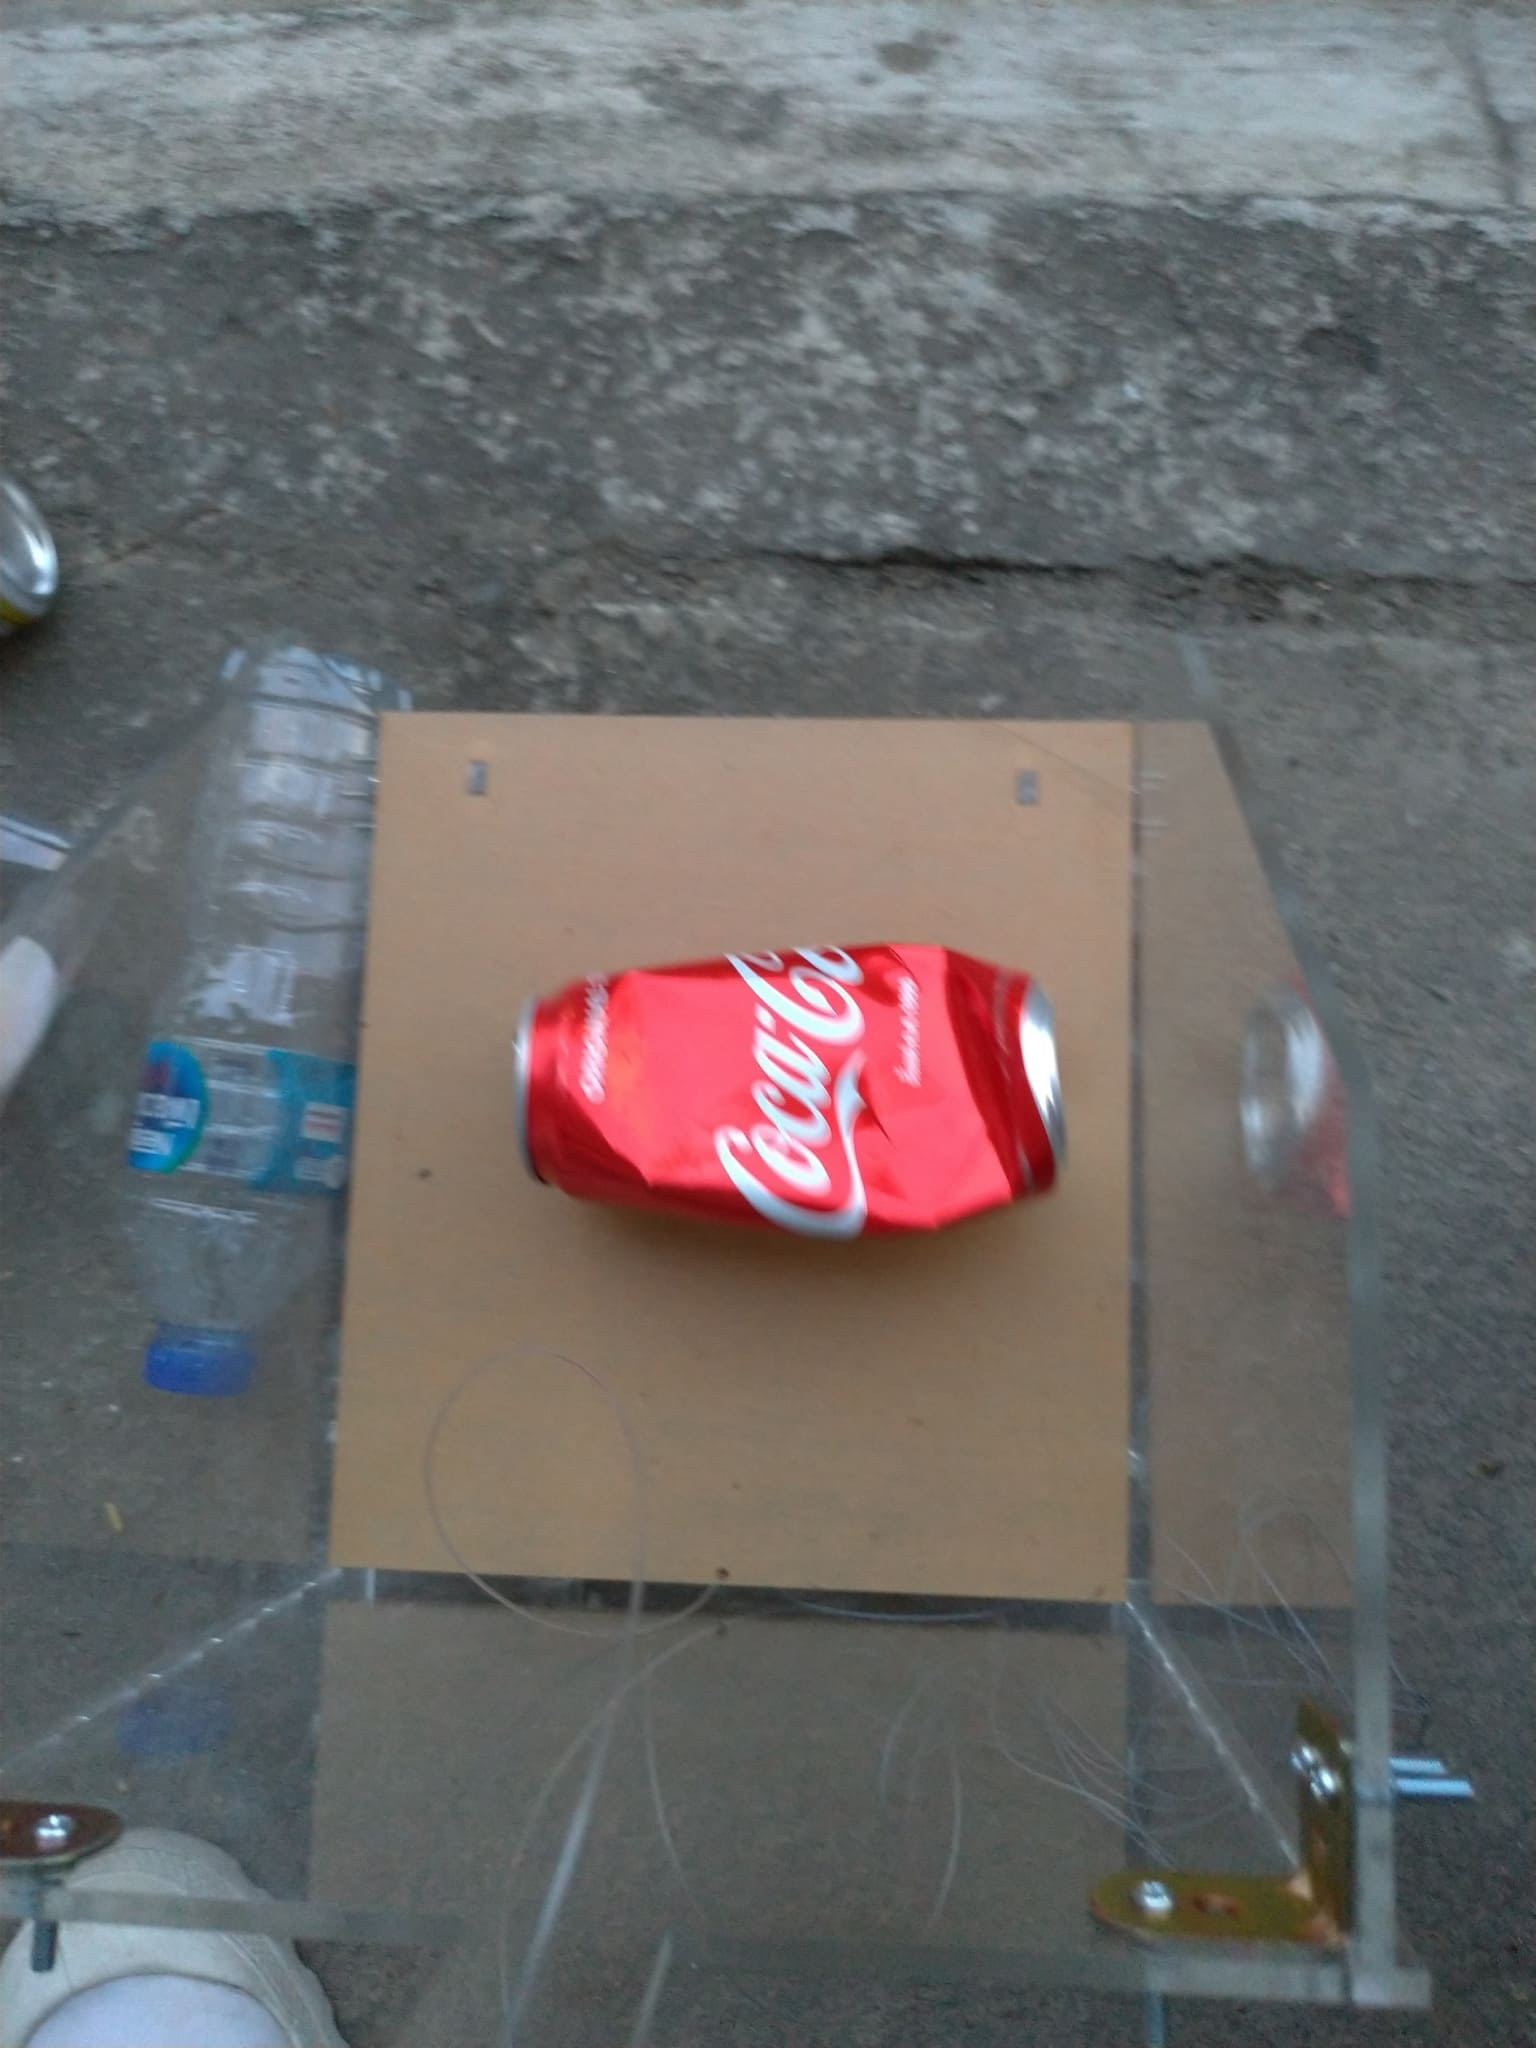AlCan: (511, 932, 1071, 1242)
PlasticBottle: (111, 651, 416, 1406)
